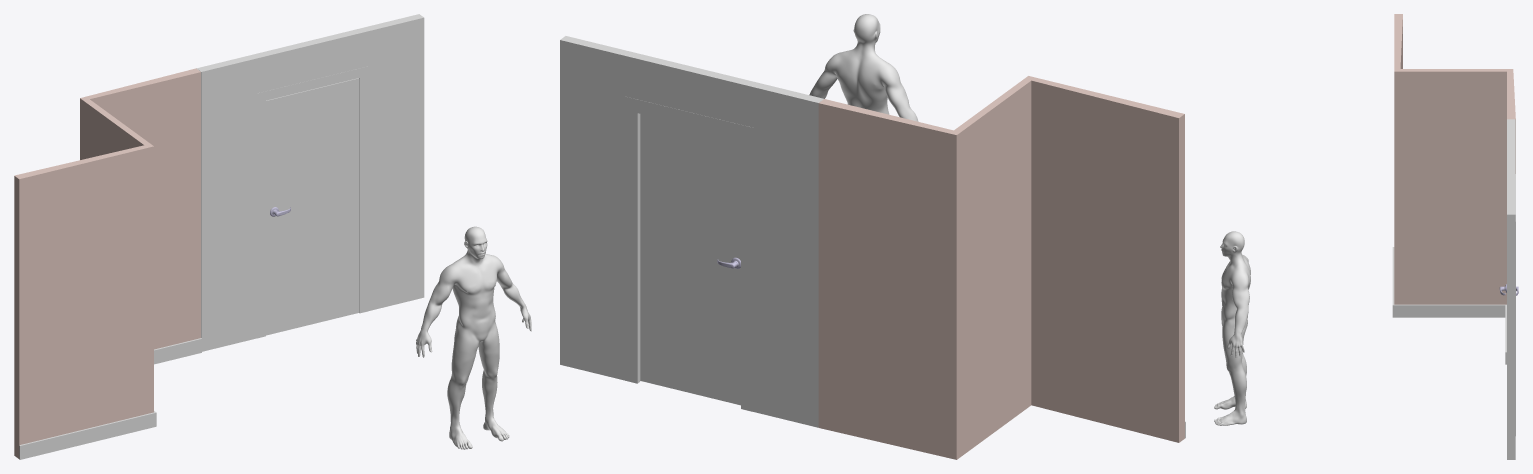
The model's file is Invest.fbx.
3 renders of one model, left to right at view 1: azimuth 30°, elevation 25°; view 2: azimuth 150°, elevation 25°; view 3: azimuth 270°, elevation 25°, orthographic. The views are drawn at different scales.
Visible parts, largest first — view 1: Room, Wall, Door, FinalBaseMesh, DoorFrame, Baseboard; view 2: Room, Wall, Door, DoorFrame, FinalBaseMesh; view 3: Room, FinalBaseMesh, Wall, Baseboard.
Part boxes in pixels (box(x1,y1,x2,y2)): Room: box(14, 68, 200, 458); Wall: box(196, 14, 424, 351); Door: box(266, 78, 359, 335); FinalBaseMesh: box(416, 226, 531, 449); DoorFrame: box(257, 66, 368, 338); Baseboard: box(19, 338, 201, 459); Room: box(818, 76, 1184, 459); Wall: box(560, 36, 823, 427); Door: box(640, 114, 740, 405); DoorFrame: box(624, 96, 753, 411); FinalBaseMesh: box(809, 14, 918, 121); Room: box(1394, 14, 1515, 304); FinalBaseMesh: box(1214, 231, 1250, 425); Wall: box(1507, 119, 1515, 459); Baseboard: box(1392, 247, 1506, 364).
Bounding box in the file's own units: 421 × 240 × 270.
